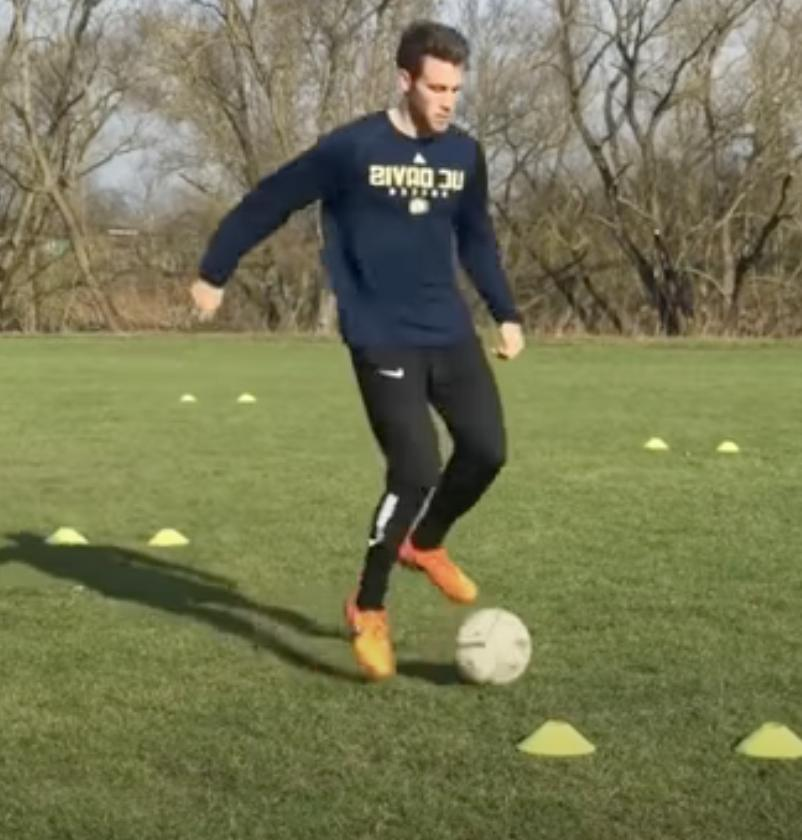ball: (452, 612, 531, 692)
foot: (399, 541, 480, 603), (346, 592, 399, 680)
person: (192, 23, 522, 678)
